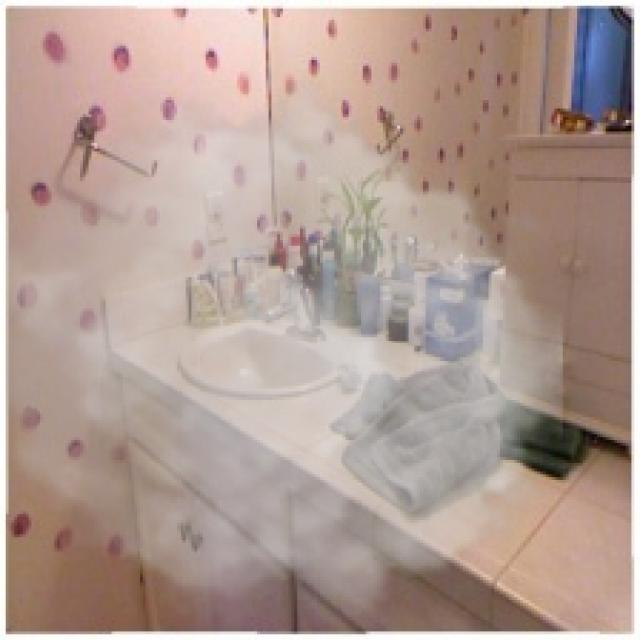smoke: (6, 72, 563, 637)
